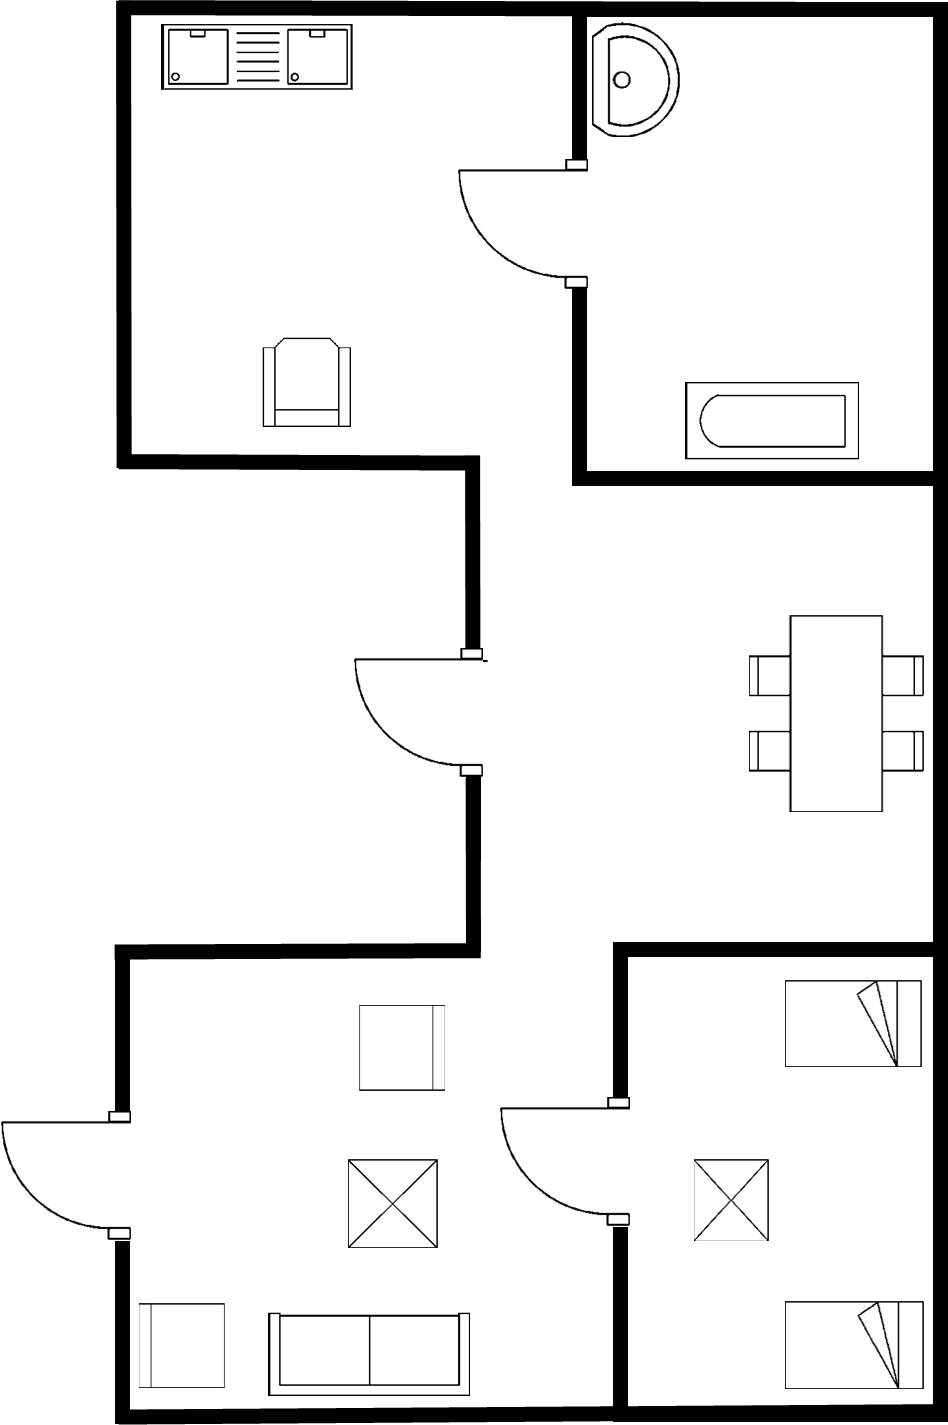armchair: (255, 331, 359, 433)
bed: (777, 1294, 930, 1401), (778, 971, 928, 1074)
coffee_table: (341, 1151, 443, 1255), (686, 1153, 774, 1248)
dining_table: (741, 610, 928, 820)
large_sofa: (257, 1306, 475, 1402)
small_sink: (588, 20, 684, 142)
small_sofa: (350, 999, 452, 1103), (135, 1298, 231, 1394)
tub: (678, 374, 867, 467)
twin_sink: (155, 19, 360, 96)
